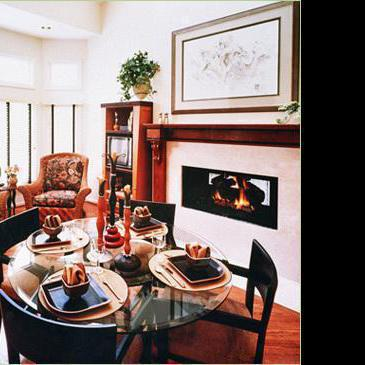Matera: (113, 48, 162, 102)
